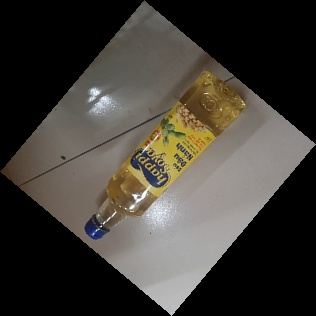Happy Soya: (82, 68, 248, 241)
